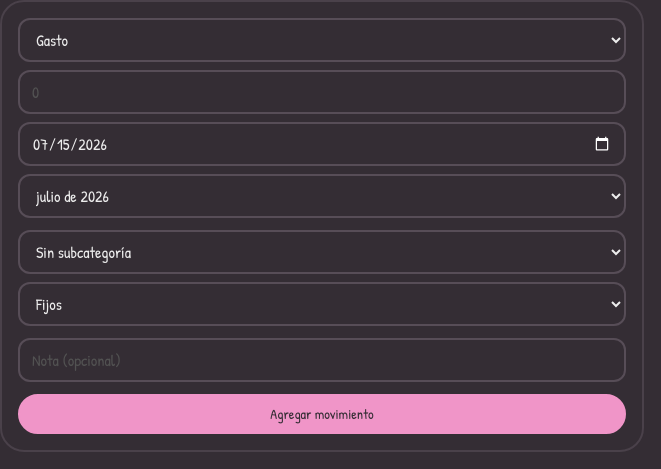
Test: TransactionForm › HIDES the bucket select once a subcategory is chosen — bucket is inferred, not asked twice
The image size is (661, 469).
Select "Luz" in the dropdown named "Subcategoría" at (322, 252), box [18, 230, 626, 274]
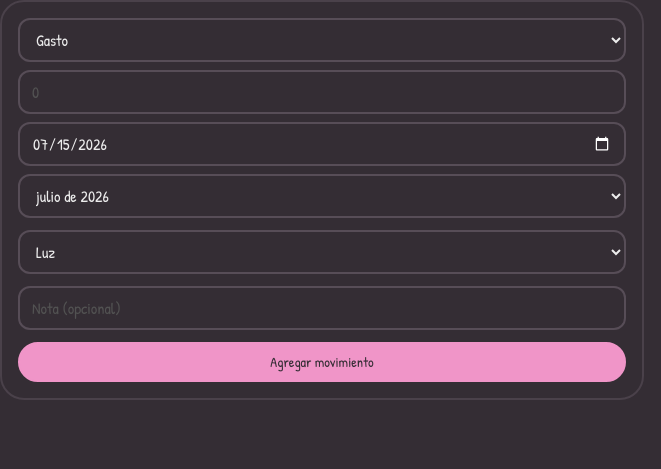
Check: the dropdown labelled "Bucket" is gone
